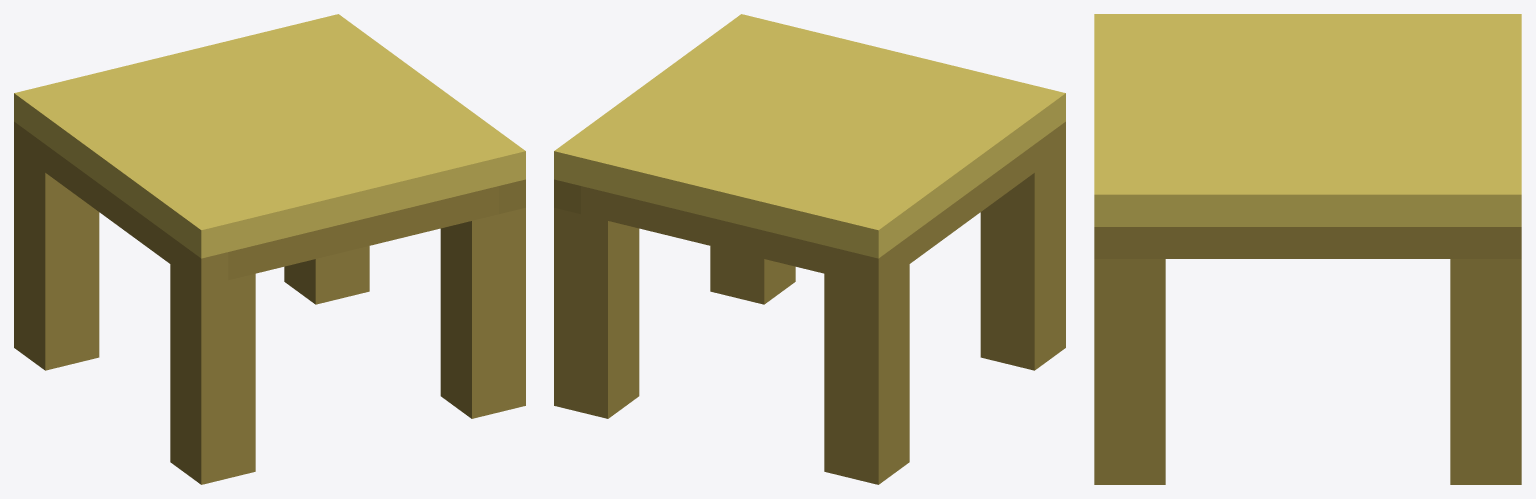
Rendered from mesa_extraccion_miel_desgastada_01.glb.
3 views of the same model, side by side, from view 1: azimuth 30°, elevation 25°; view 2: azimuth 150°, elevation 25°; view 3: azimuth 270°, elevation 25° (orthographic). The views are drawn at different scales.
Visible parts, largest first — view 1: mesa_extraccion_miel_desgastada; view 2: mesa_extraccion_miel_desgastada; view 3: mesa_extraccion_miel_desgastada.
Part boxes in pixels (bbox=[...]): mesa_extraccion_miel_desgastada: bbox=[14, 14, 525, 484]; mesa_extraccion_miel_desgastada: bbox=[554, 14, 1065, 484]; mesa_extraccion_miel_desgastada: bbox=[1094, 14, 1521, 484].
Size of the model in its own units: 1 by 0.75 by 1.
